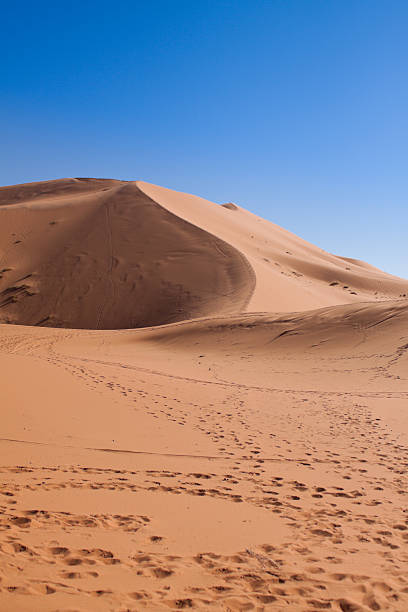animal_foot_print: (0, 330, 407, 611)
